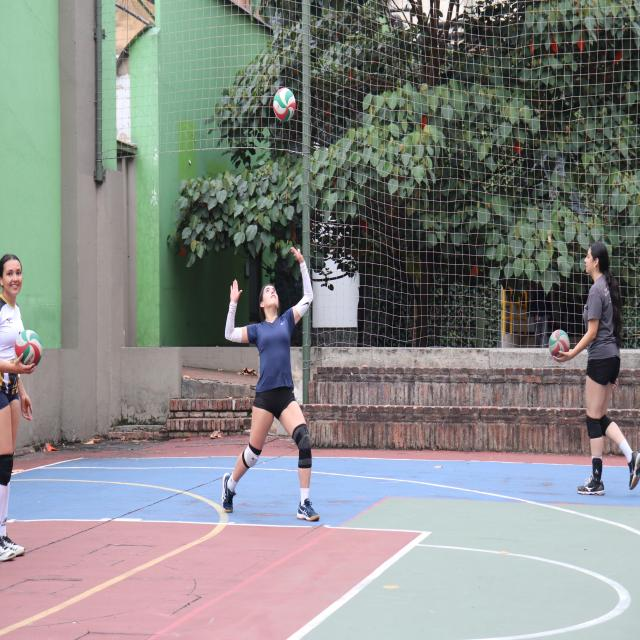volleyball: (13, 328, 43, 367), (273, 88, 296, 123), (549, 330, 570, 359)
